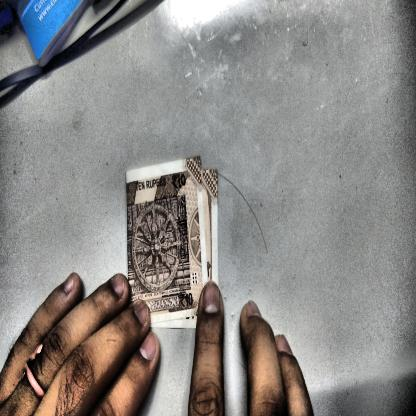Rs10: (177, 290, 195, 309)
